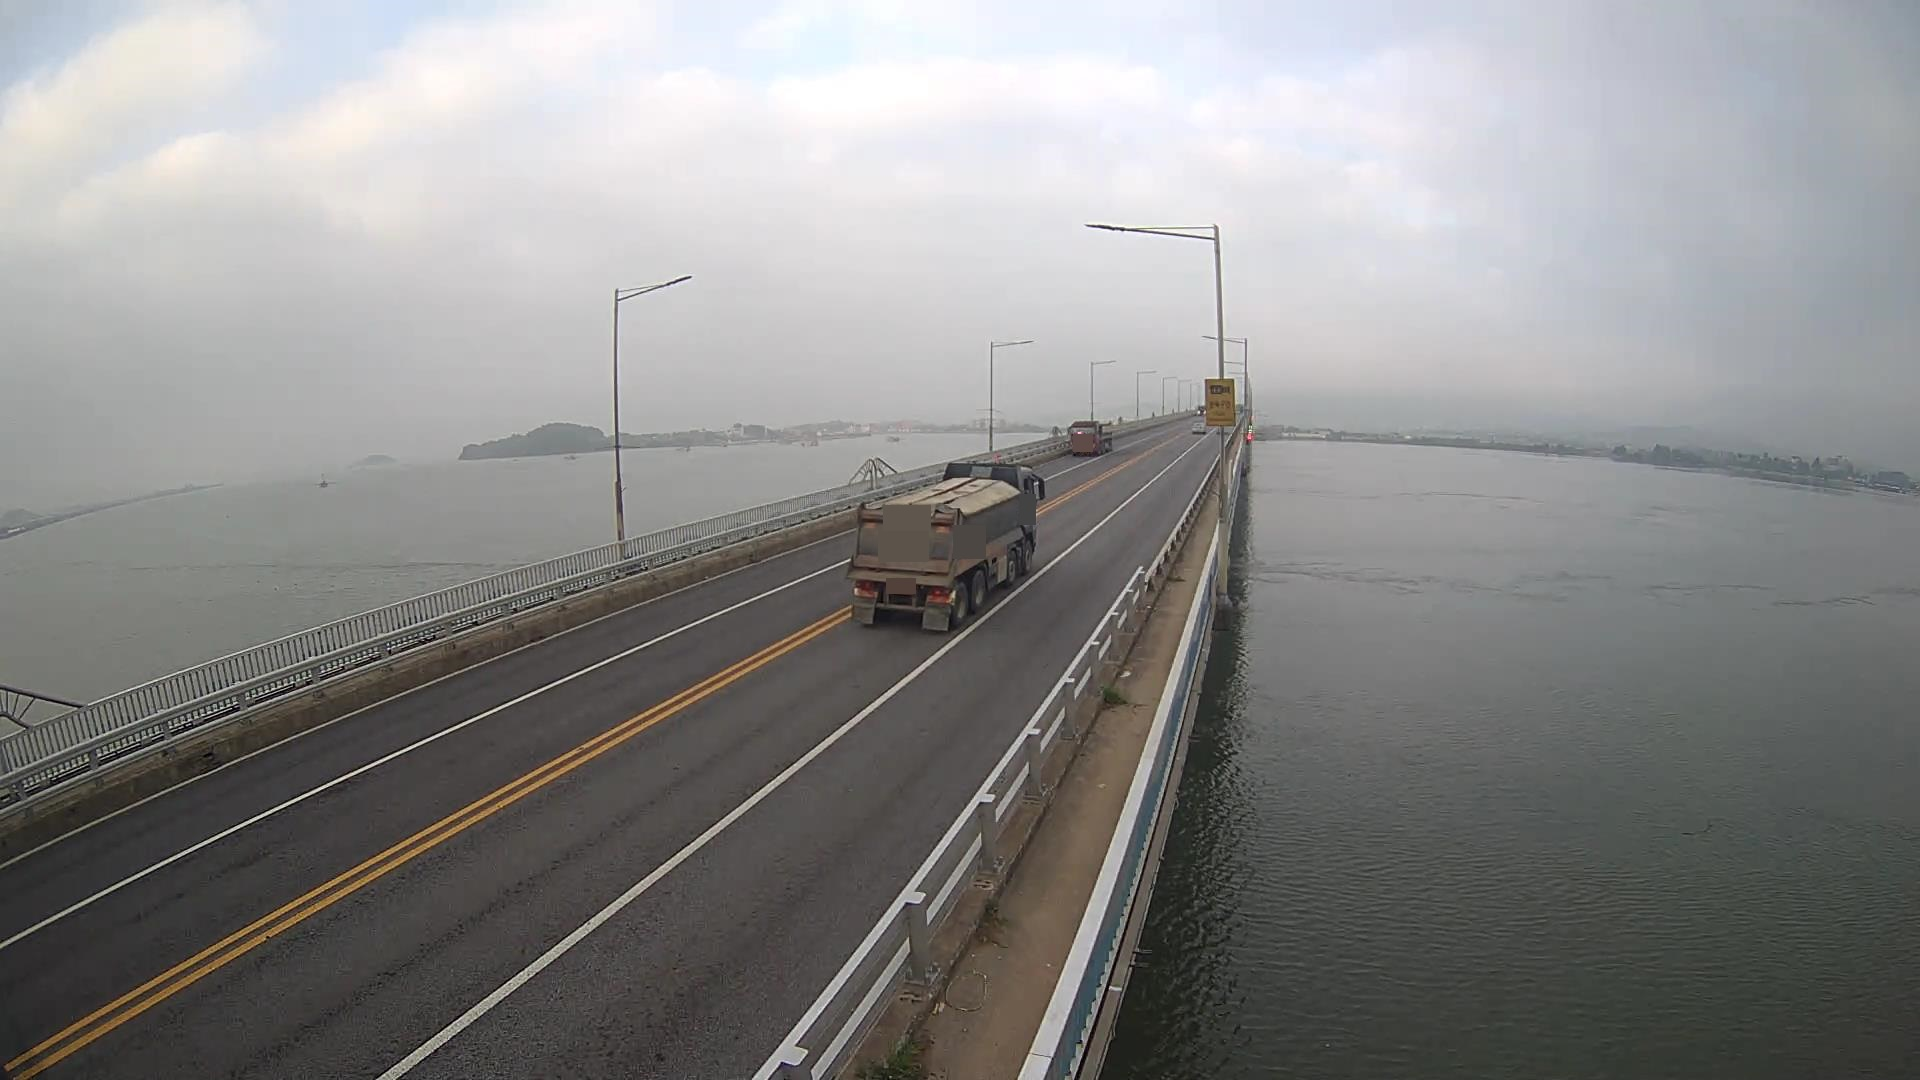정상차량: (841, 459, 1046, 632)
